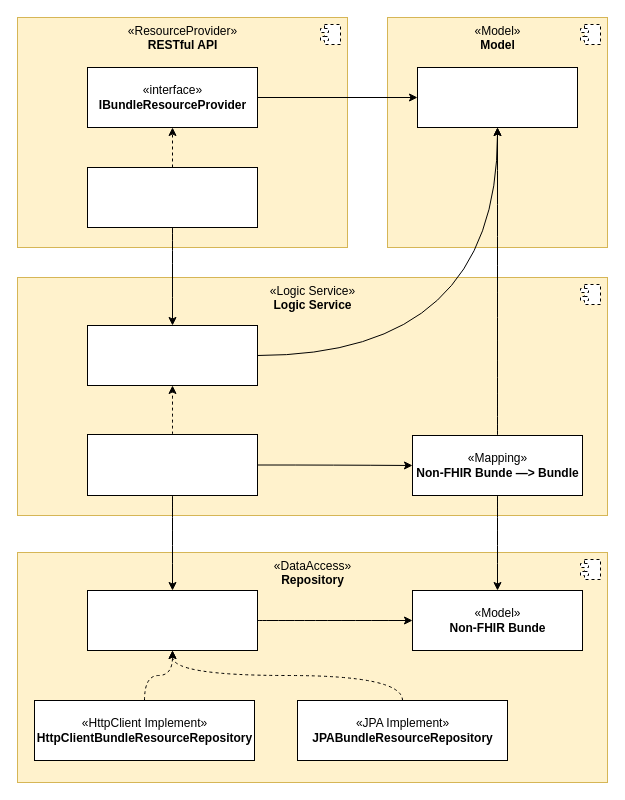
The diagram is 625 pixels wide and 800 high, and some of its shapes have lost their labels. The centre of each missing label's shape, as x and y in pixels:
"«Implement» BundleResourceProvider" belongs at point (172, 197).
"«Implement» BundleResourceService" belongs at point (172, 465).
"«interface» IBundleResourceRepository" belongs at point (172, 620).
"«interface» IBundleResourceService" belongs at point (172, 355).
"«Model» Bundle" belongs at point (497, 97).
